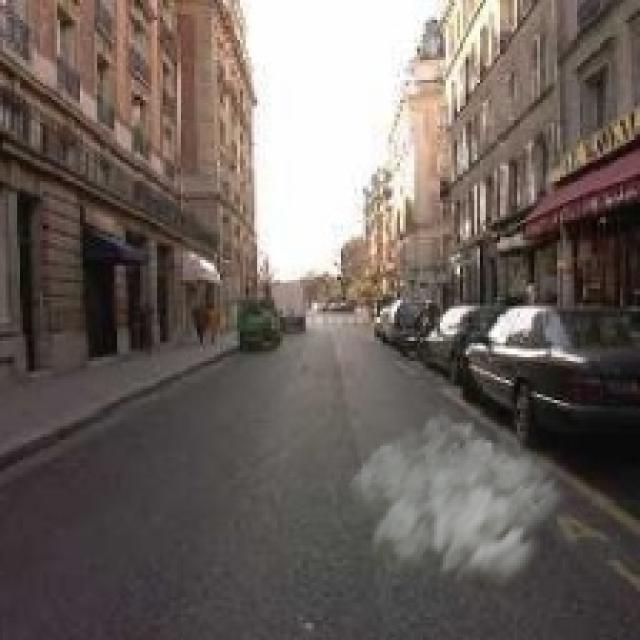smoke: (337, 406, 574, 617)
